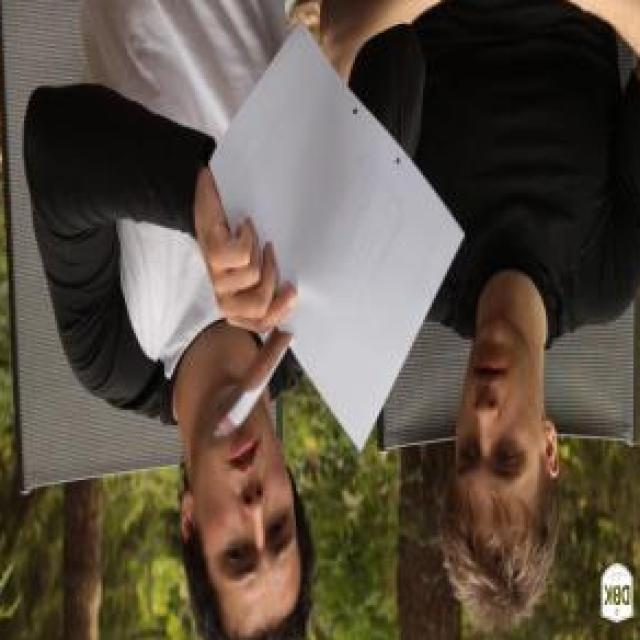knife: (202, 320, 300, 452)
